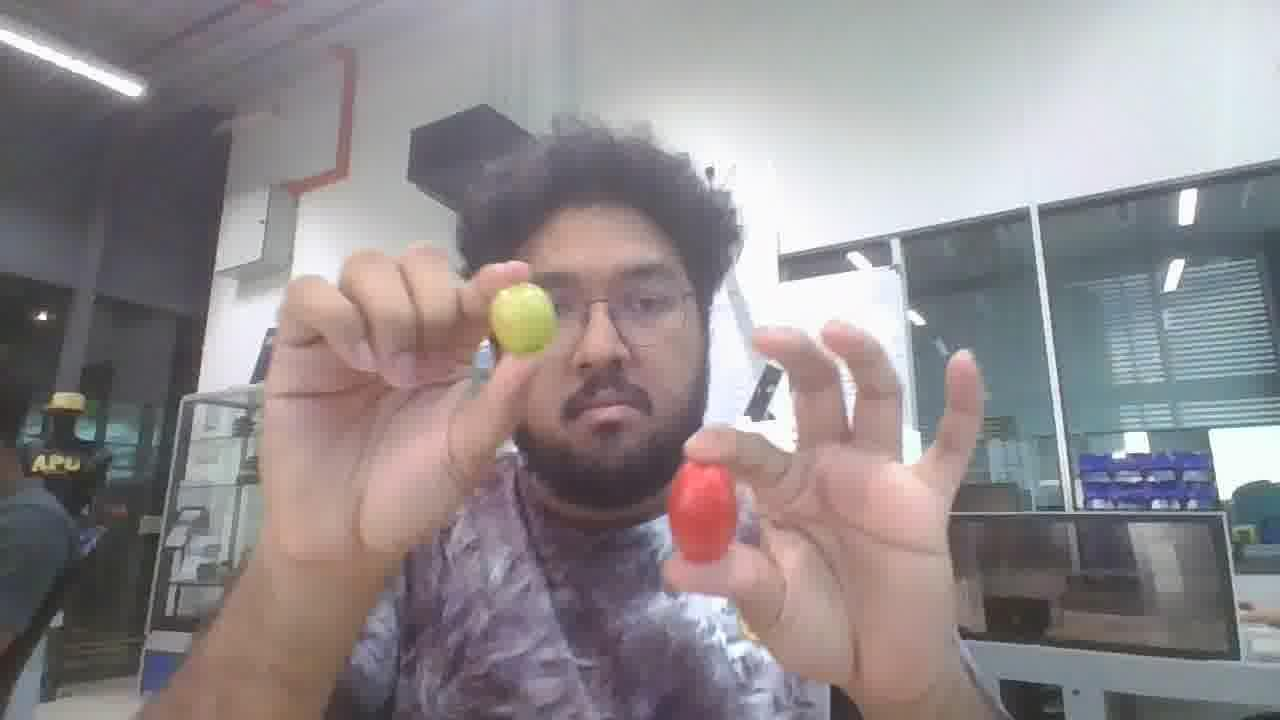green_cherry_tomato: (490, 282, 557, 353)
red_cherry_tomato: (667, 461, 736, 563)
